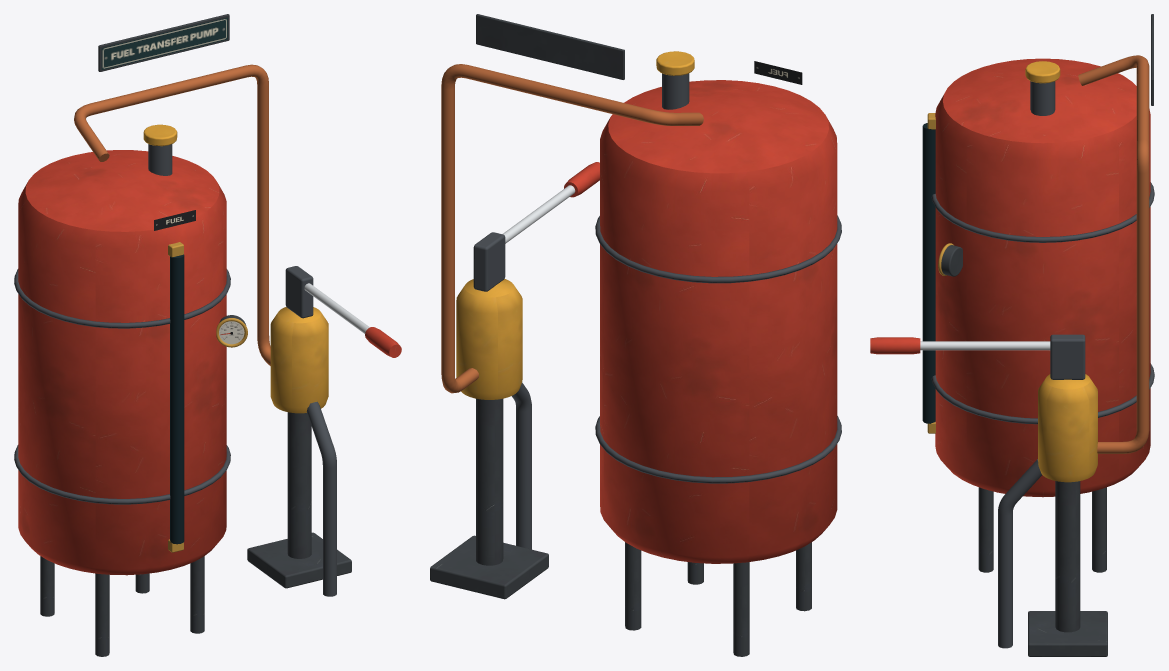
Rendered from FuelStation.glb.
The picture shows the model from 3 angles, left to right: view 1: azimuth 30°, elevation 25°; view 2: azimuth 150°, elevation 25°; view 3: azimuth 270°, elevation 25°; orthographic projection. The views are drawn at different scales.
Visible parts, largest first — view 1: FuelStation_Body, FuelStation_PumpLever, FuelStation_FillerCap; view 2: FuelStation_Body, FuelStation_PumpLever, FuelStation_FillerCap; view 3: FuelStation_Body, FuelStation_PumpLever, FuelStation_FillerCap.
Boxes of the visible parts, box(x1,y1,x2,y2) form: FuelStation_Body: box(14, 14, 351, 656); FuelStation_PumpLever: box(304, 283, 401, 357); FuelStation_FillerCap: box(143, 124, 177, 146); FuelStation_Body: box(430, 14, 841, 656); FuelStation_PumpLever: box(502, 162, 599, 243); FuelStation_FillerCap: box(656, 51, 694, 75); FuelStation_Body: box(922, 14, 1154, 656); FuelStation_PumpLever: box(870, 337, 1050, 354); FuelStation_FillerCap: box(1025, 61, 1060, 83).
Bounding box in the file's own units: 1.51 × 2.43 × 1.14.
Materials: 13 (6 with a texture image).
